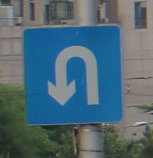u_turn: (23, 25, 122, 125)
